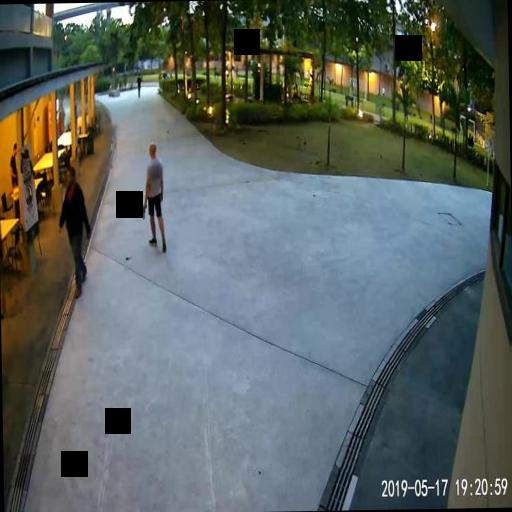Handgun: (141, 201, 145, 218)
